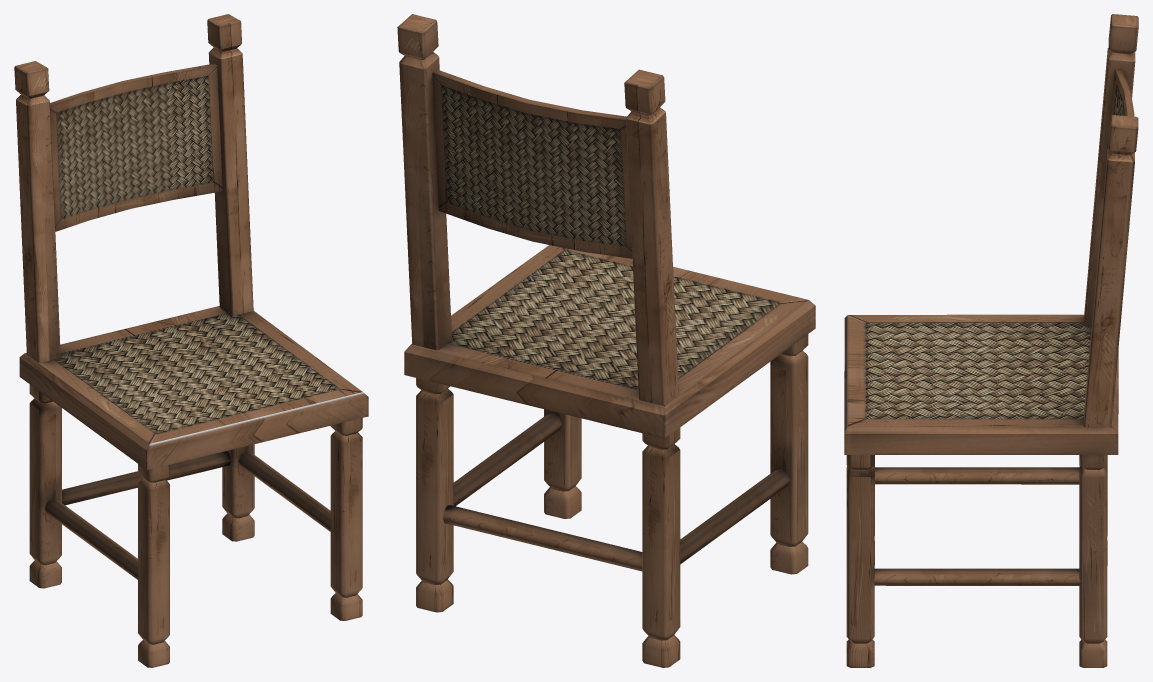
Rendered from chair.fbx.
3 renders of one model, left to right at view 1: azimuth 30°, elevation 25°; view 2: azimuth 150°, elevation 25°; view 3: azimuth 270°, elevation 25°, orthographic. The views are drawn at different scales.
Parts seen in each view (by area): view 1: polySurface1805; view 2: polySurface1805; view 3: polySurface1805.
Boxes of the visible parts, bbox=[...] form: polySurface1805: bbox=[14, 14, 368, 667]; polySurface1805: bbox=[397, 14, 815, 667]; polySurface1805: bbox=[844, 14, 1138, 667].
Bounding box in the file's own units: 59.52 × 130 × 63.82.
